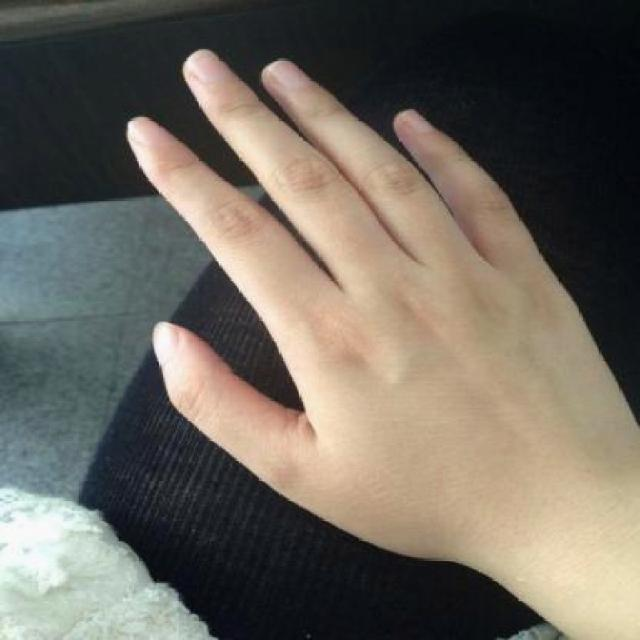hand_noglove: (126, 49, 603, 548)
